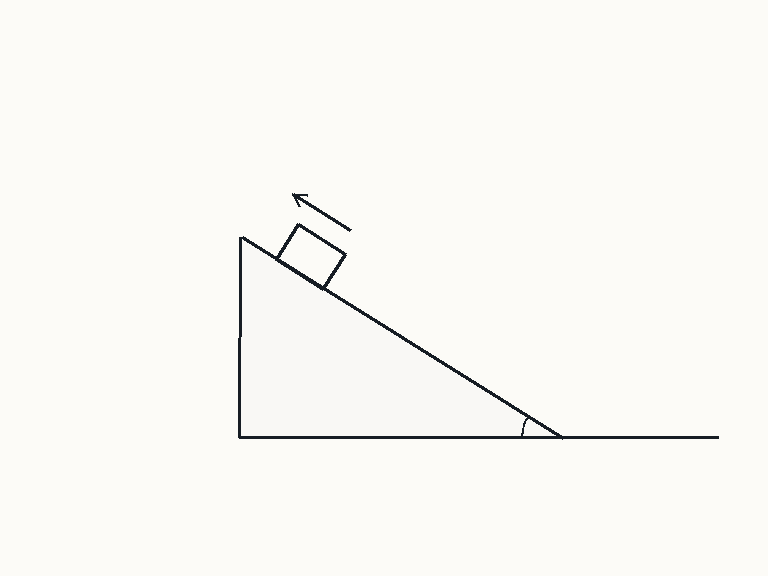block: (274, 222, 347, 290)
ramp: (239, 234, 564, 439)
